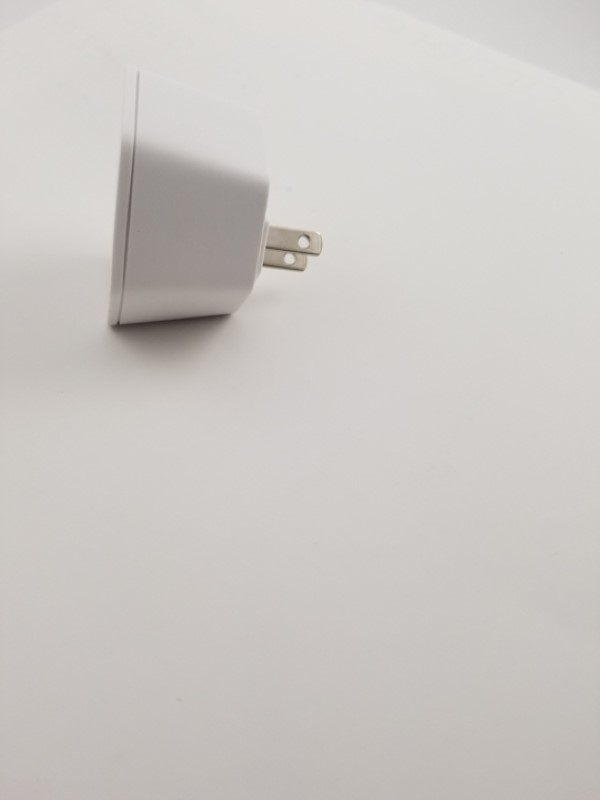pod: (104, 61, 330, 346)
